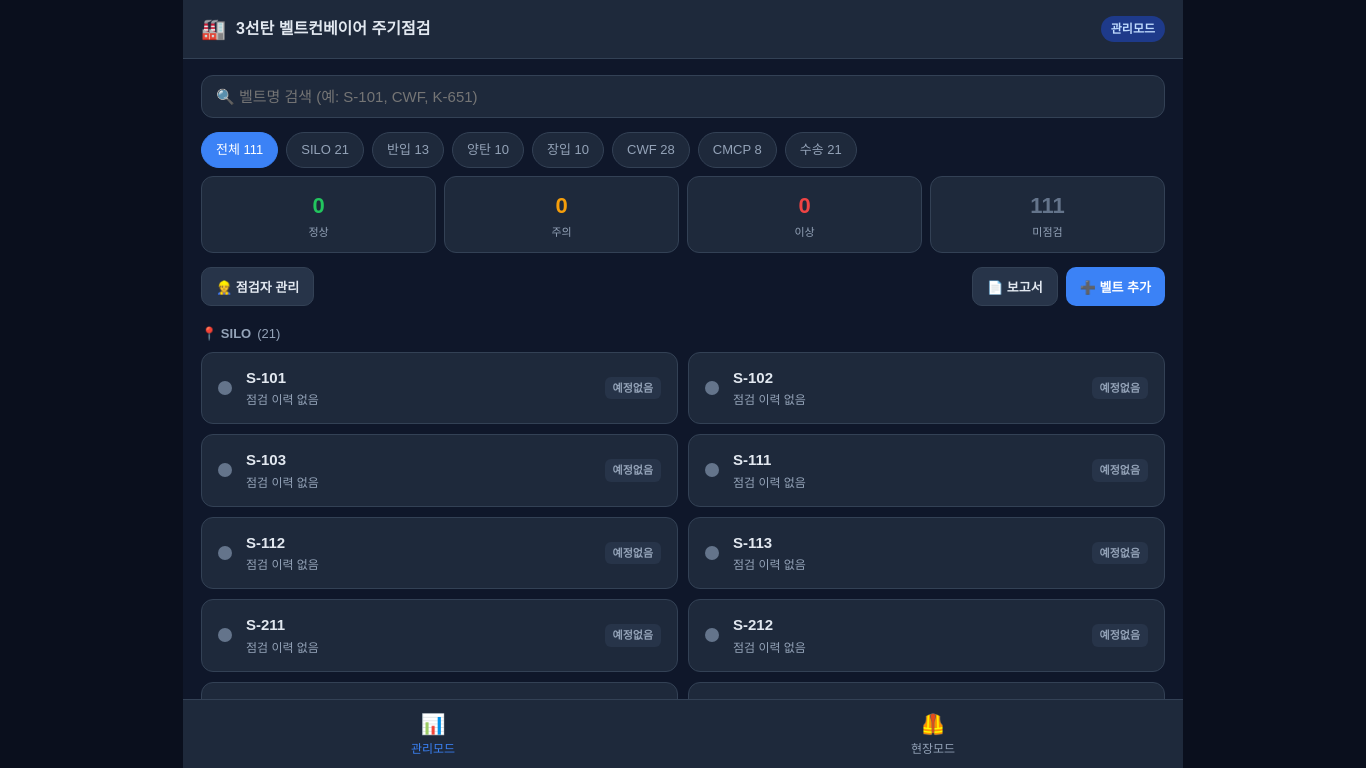
Test: App 통합 렌더 › 벨트 추가 모달: 올바른 비밀번호로 추가되면 목록에 표시
Click the button "➕ 벨트 추가": click(1115, 286) [1066,267,1165,306]
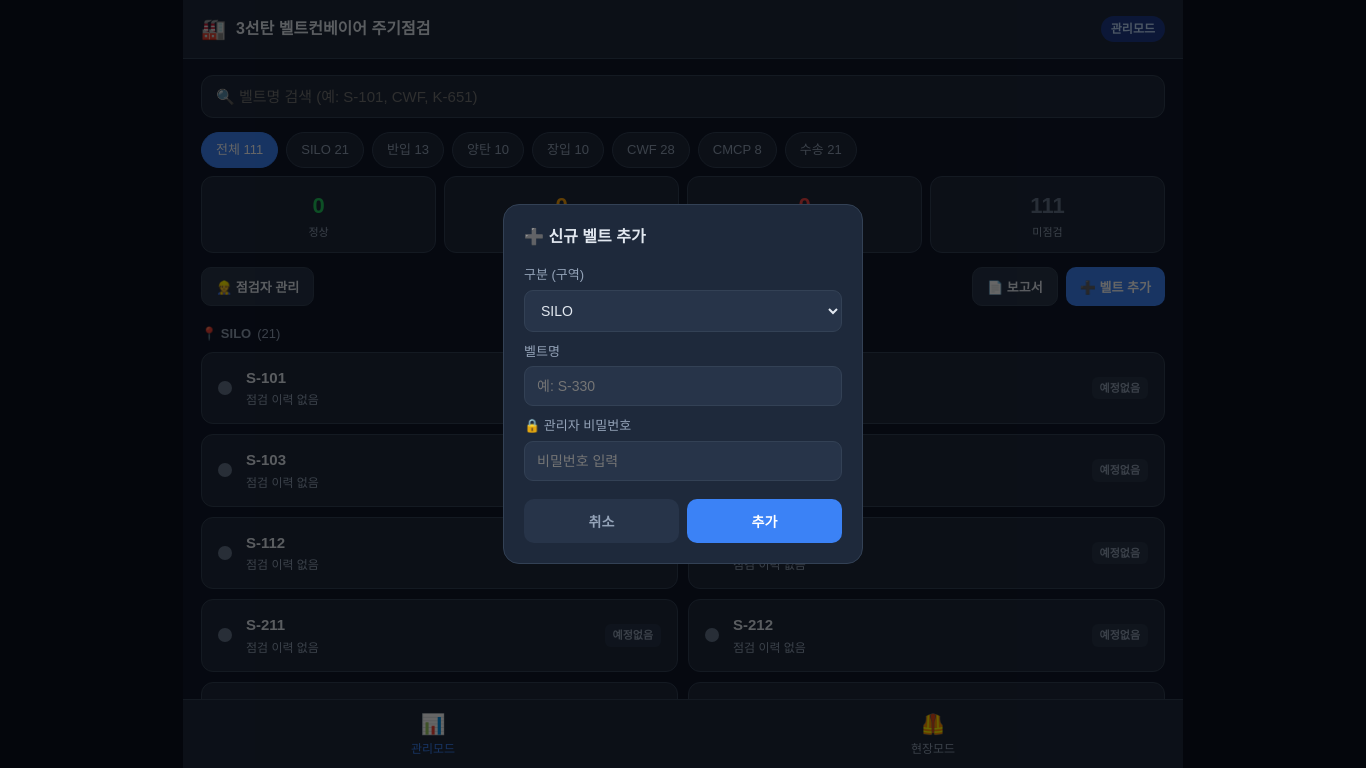
In the field with placeholder "예: S-330": (683, 386) [524,366,842,406], type "S-777"
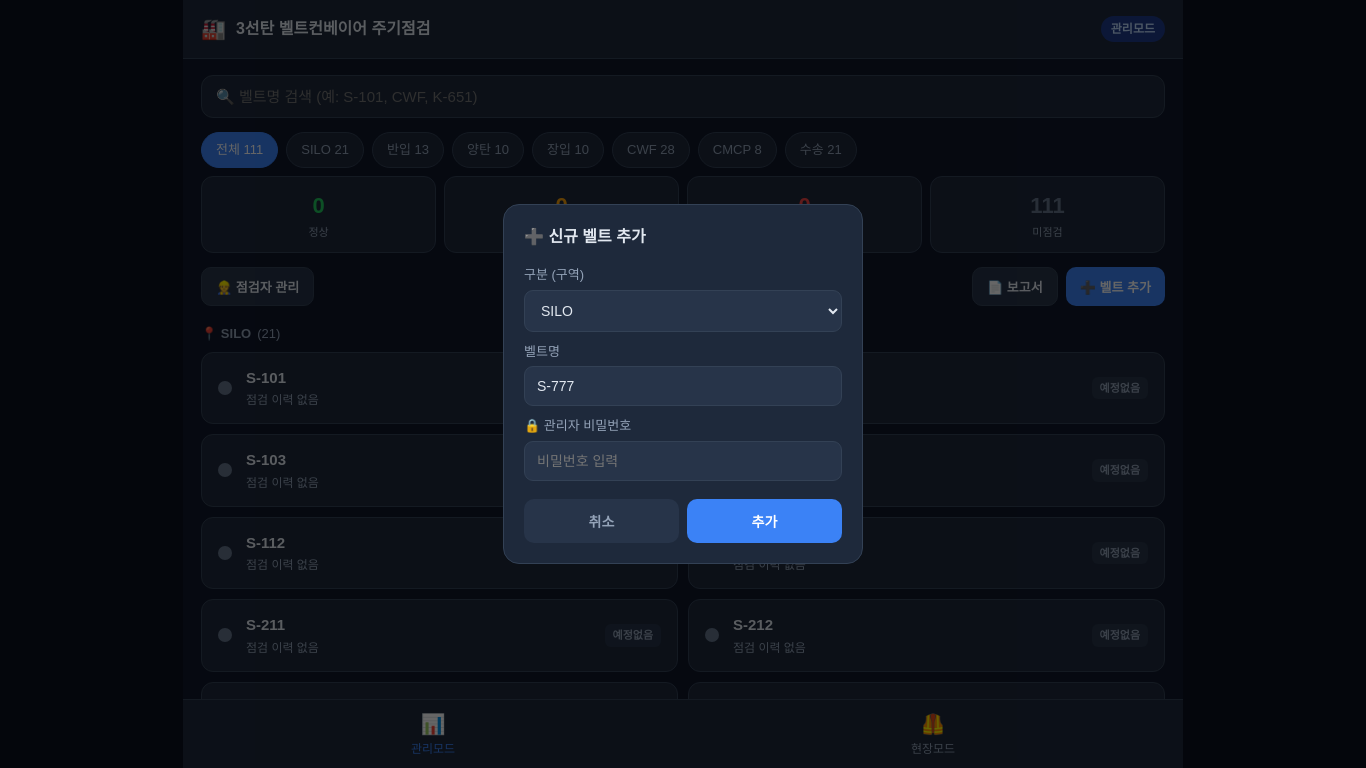
In the password field with placeholder "비밀번호 입력": (683, 461) [524,441,842,481], type "0000"
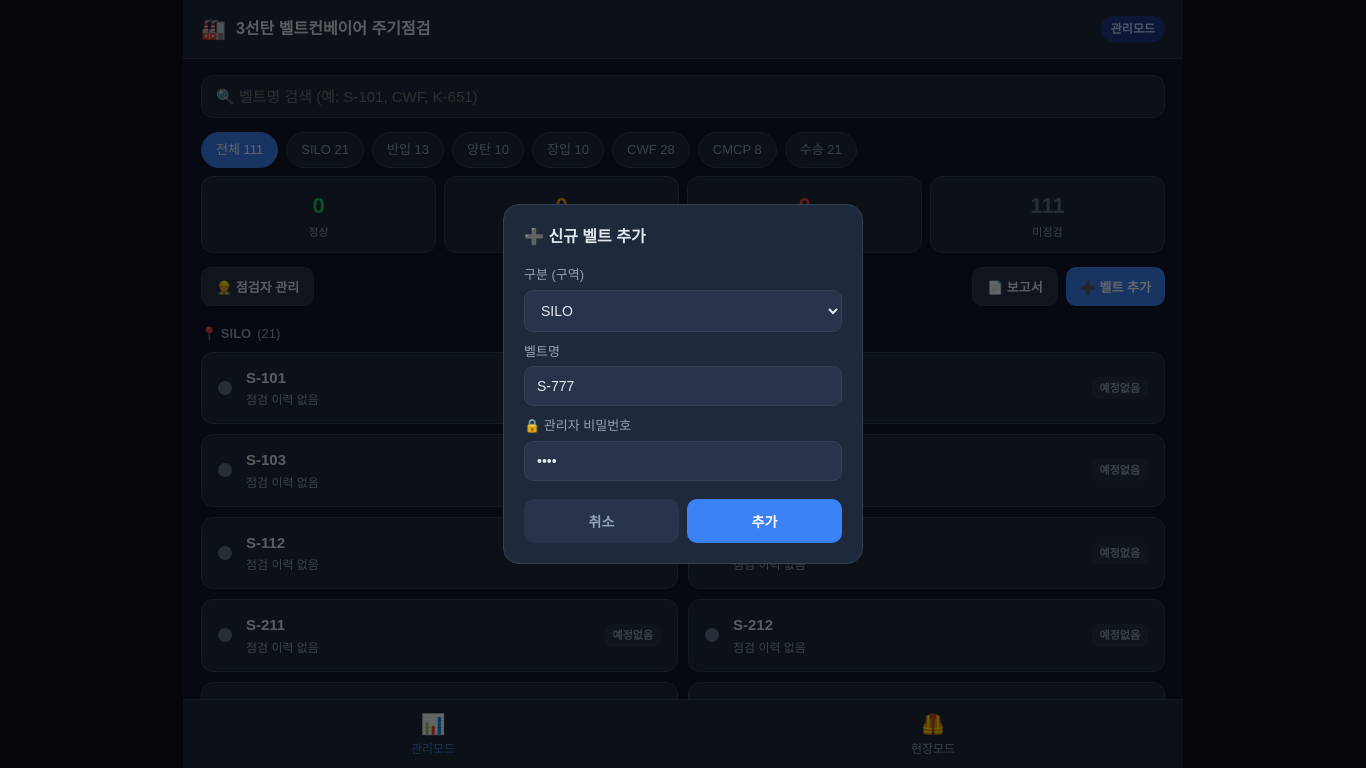
Click the button "추가": click(764, 521) [687,499,842,543]
(page scrolled)
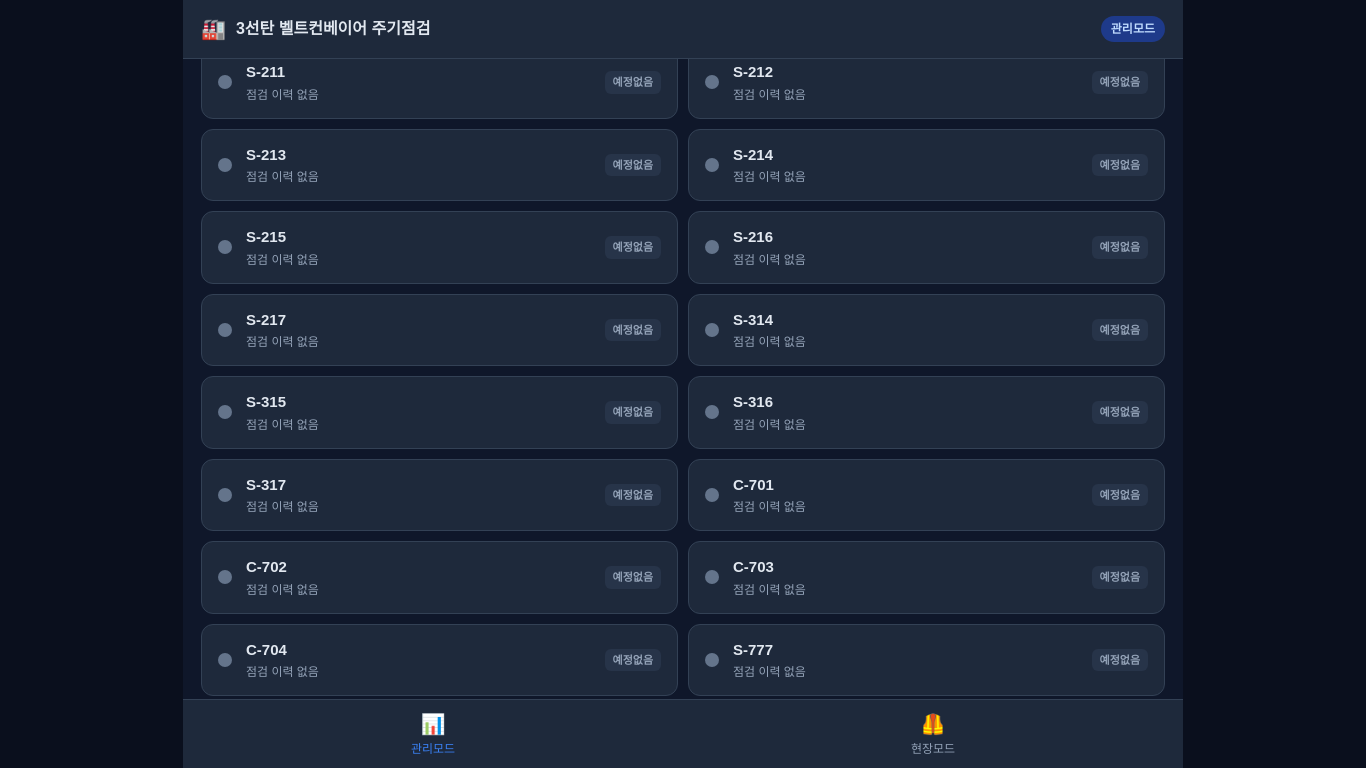
Now the text "S-777" is shown, box [733,640,773,658]
